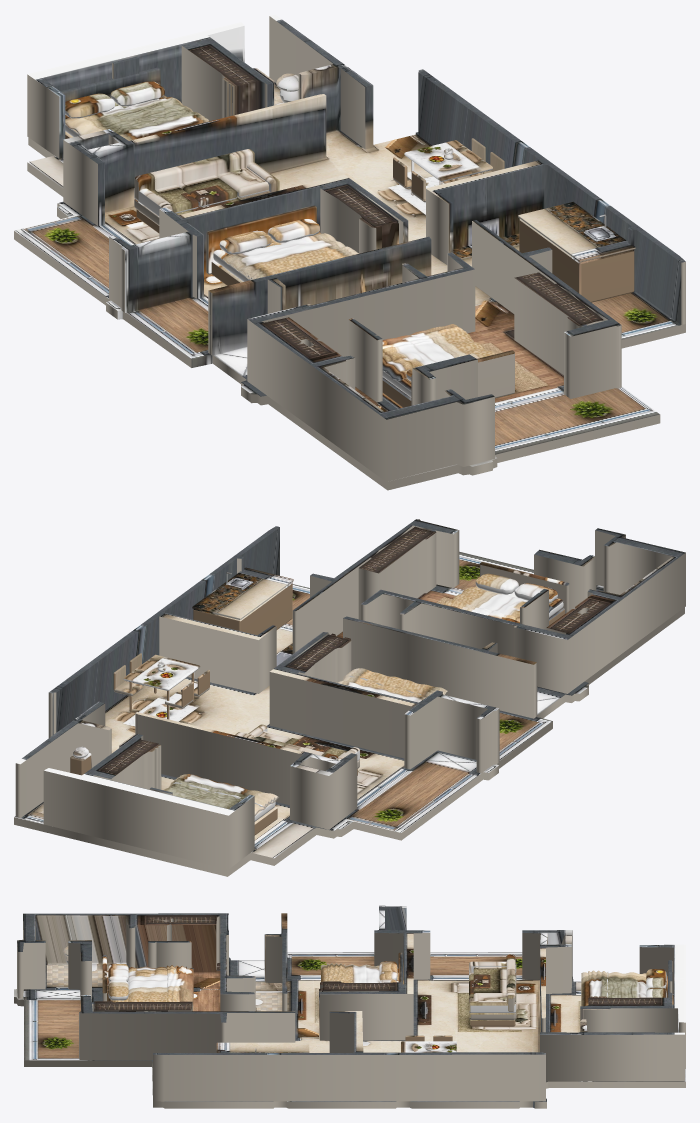
File: p6-06-u07-0112-image-model.glb
The picture shows the model from 3 angles, top to bottom: view 1: azimuth 30°, elevation 25°; view 2: azimuth 150°, elevation 25°; view 3: azimuth 270°, elevation 25°; orthographic projection. The views are drawn at different scales.
Parts seen in each view (by area): view 1: Partition walls, Apartment floor, Kitchen cabinets, Stone worktop, Draped bed linen, Sofa back, Draped bed linen.004, Draped bed linen.002, Marble dining top, Upholstered headboard.001, Upholstered headboard.002, Upholstered headboard (+10 smaller); view 2: Partition walls, Apartment floor, Stone worktop, Kitchen cabinets, Marble dining top, Draped bed linen.004, Upholstered headboard.002, Draped bed linen, Draped bed linen.001, Draped bed linen.003, Draped bed linen.002, Tailored pillow.005; view 3: Partition walls, Apartment floor, Draped bed linen.004, Draped bed linen, Stone worktop, Draped bed linen.002, Draped bed linen.005, Marble dining top, Sofa back, Upholstered sofa frame, Draped bed linen.001, Padded armrest.001 (+7 smaller).
Boxes of the visible parts, <box> form: Partition walls: <box>27,14,685,481</box>; Apartment floor: <box>14,82,685,490</box>; Kitchen cabinets: <box>519,219,634,302</box>; Stone worktop: <box>518,201,635,262</box>; Draped bed linen: <box>65,97,203,137</box>; Sofa back: <box>134,149,254,199</box>; Draped bed linen.004: <box>382,327,485,380</box>; Draped bed linen.002: <box>223,233,345,279</box>; Marble dining top: <box>404,140,492,181</box>; Upholstered headboard.001: <box>206,205,316,274</box>; Upholstered headboard.002: <box>411,350,514,405</box>; Upholstered headboard: <box>60,67,160,101</box>; Partition walls: <box>15,519,685,869</box>; Apartment floor: <box>14,551,684,876</box>; Stone worktop: <box>192,567,293,619</box>; Kitchen cabinets: <box>193,582,292,635</box>; Marble dining top: <box>123,654,200,690</box>; Draped bed linen.004: <box>452,587,553,617</box>; Upholstered headboard.002: <box>480,562,569,613</box>; Draped bed linen: <box>163,775,278,816</box>; Draped bed linen.001: <box>170,774,275,807</box>; Draped bed linen.003: <box>343,668,444,696</box>; Draped bed linen.002: <box>338,670,447,702</box>; Tailored pillow.005: <box>475,573,518,594</box>; Partition walls: <box>17,905,685,1101</box>; Apartment floor: <box>14,952,685,1108</box>; Draped bed linen.004: <box>128,966,193,1005</box>; Draped bed linen: <box>581,972,646,1006</box>; Stone worktop: <box>216,1042,309,1052</box>; Draped bed linen.002: <box>321,964,379,982</box>; Draped bed linen.005: <box>166,965,186,1001</box>; Marble dining top: <box>401,1041,456,1052</box>; Sofa back: <box>506,954,515,1011</box>; Upholstered sofa frame: <box>469,972,516,1019</box>; Draped bed linen.001: <box>588,970,608,997</box>; Padded armrest.001: <box>469,1001,516,1012</box>.
Bounding box in the file's own units: 7.96 × 1.3 × 14.94.
Materials: 14 (3 with a texture image).
